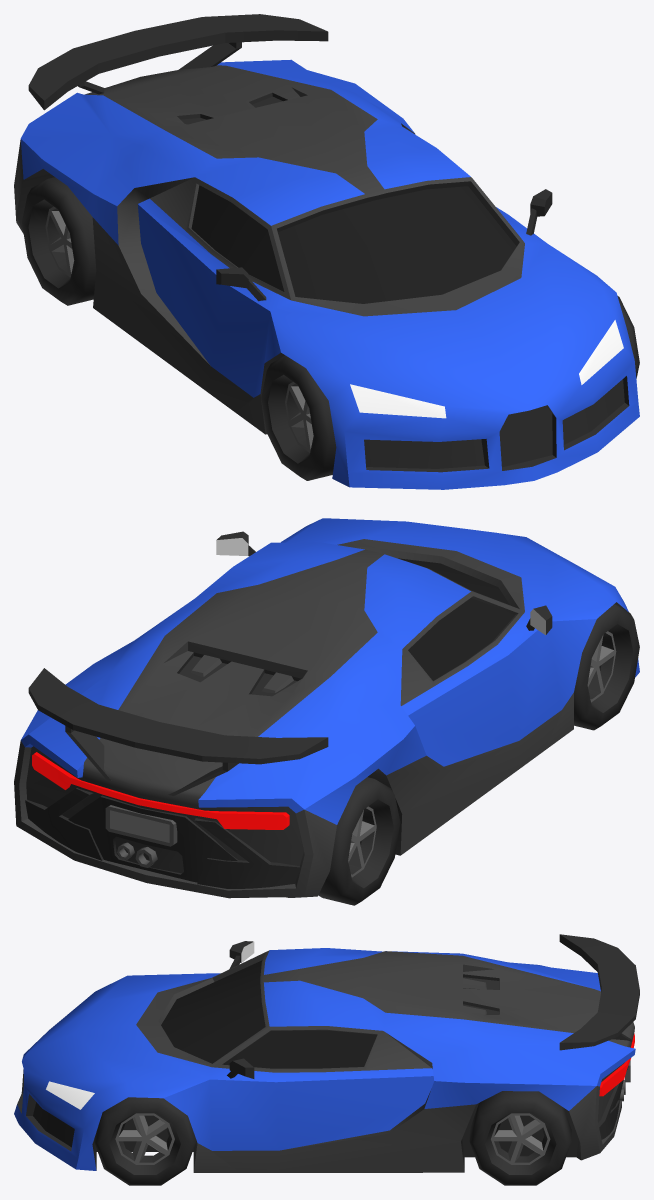
File: chiron.glb
The picture shows the model from 3 angles, top to bottom: view 1: azimuth 30°, elevation 25°; view 2: azimuth 150°, elevation 25°; view 3: azimuth 270°, elevation 25°; orthographic projection. The views are drawn at different scales.
Visible parts, largest first — view 1: chiron, wheels.026, wheels.027; view 2: chiron, wheels.026, wheels.027; view 3: chiron, wheels.033, wheels.032.
Part boxes in pixels (<box>): chiron: <box>14,14,639,489</box>; wheels.026: <box>22,177,96,305</box>; wheels.027: <box>261,355,336,480</box>; chiron: <box>14,518,639,898</box>; wheels.026: <box>318,777,400,905</box>; wheels.027: <box>574,604,639,730</box>; chiron: <box>14,934,639,1172</box>; wheels.033: <box>469,1091,571,1185</box>; wheels.032: <box>94,1097,196,1185</box>.
Size of the model in its own units: 2.94 by 1.65 by 6.14.
4 materials, 4 textured.
